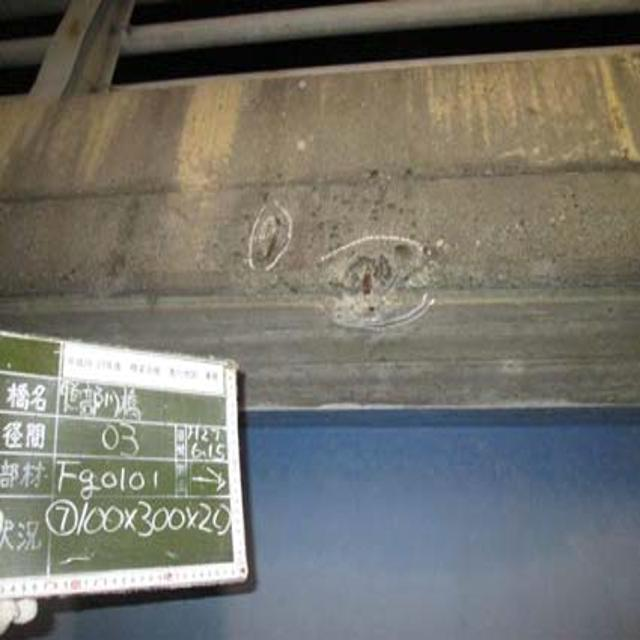spalling: (243, 194, 444, 337)
